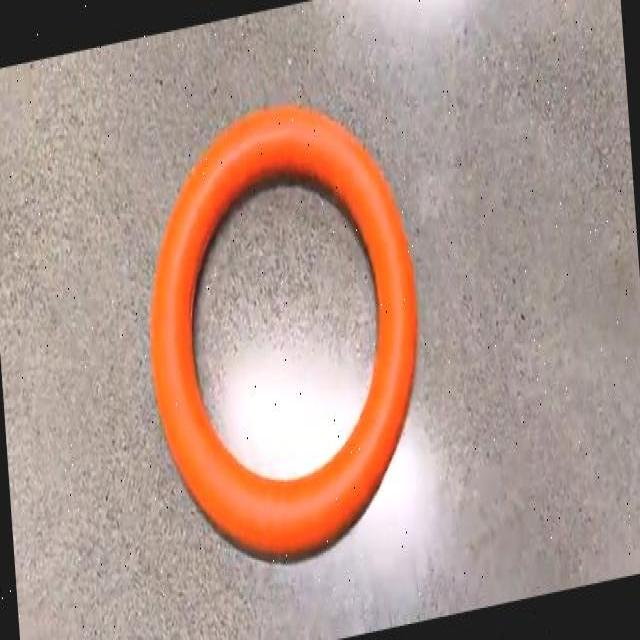note: (150, 108, 415, 553)
